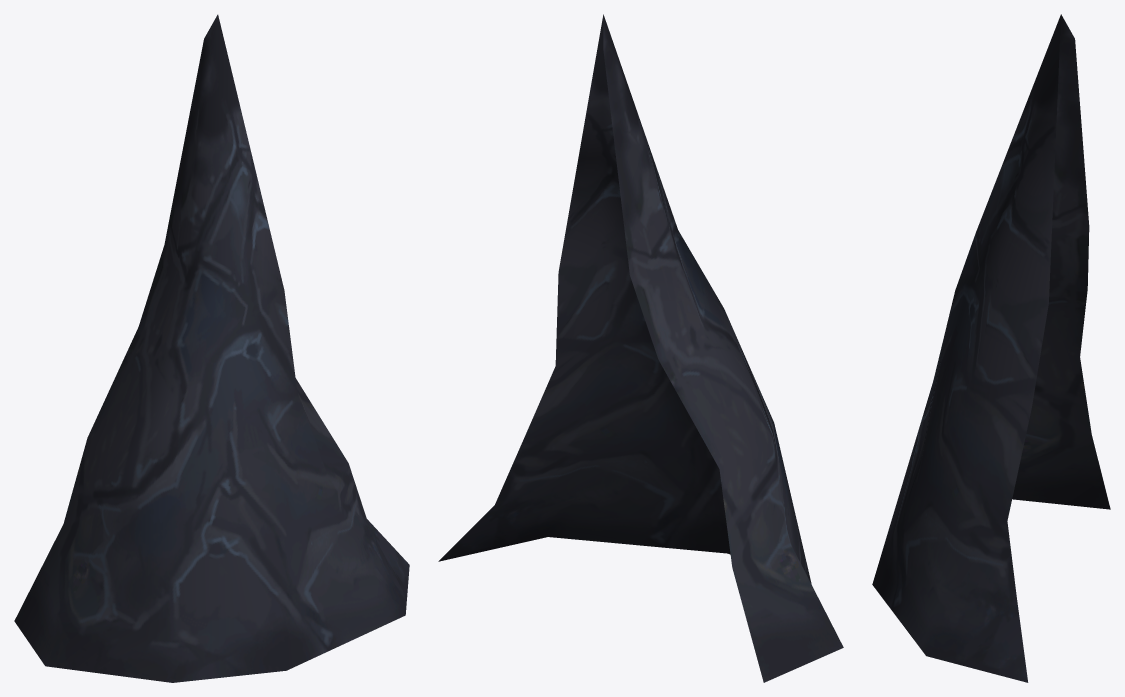
Rendered from sn_jiguan_shanshi_001.FBX.
The picture shows the model from 3 angles, left to right: view 1: azimuth 30°, elevation 25°; view 2: azimuth 150°, elevation 25°; view 3: azimuth 270°, elevation 25°; orthographic projection. The views are drawn at different scales.
Visible parts, largest first — view 1: sn_jiguan_shanshi_001; view 2: sn_jiguan_shanshi_001; view 3: sn_jiguan_shanshi_001.
Part boxes in pixels (bbox=[...]): sn_jiguan_shanshi_001: bbox=[14, 14, 409, 682]; sn_jiguan_shanshi_001: bbox=[438, 14, 843, 682]; sn_jiguan_shanshi_001: bbox=[872, 14, 1110, 682].
Size of the model in its own units: 544 by 801 by 297.
